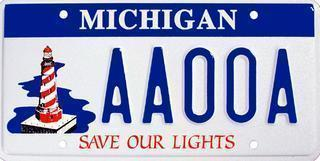placa de veiculo: (4, 1, 309, 156)
